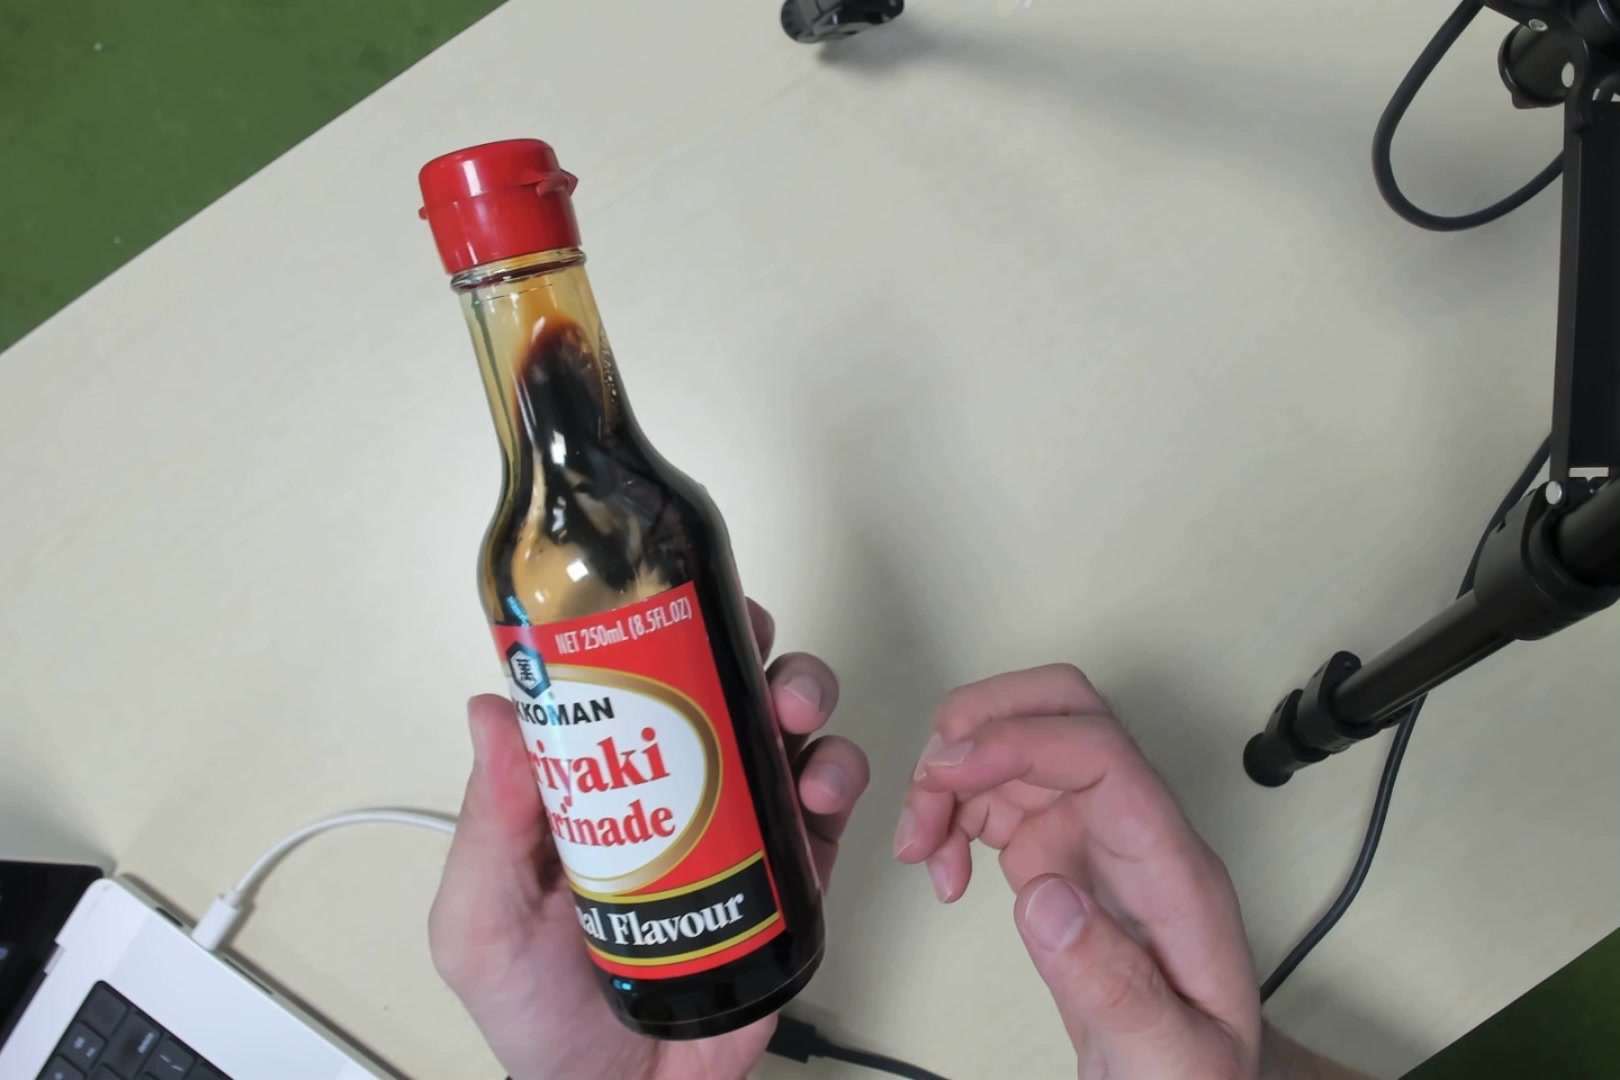OtherSauceDressingSoupbasePaste_200-299g_NonHalal_NonHealthy: (444, 153, 818, 1006)
